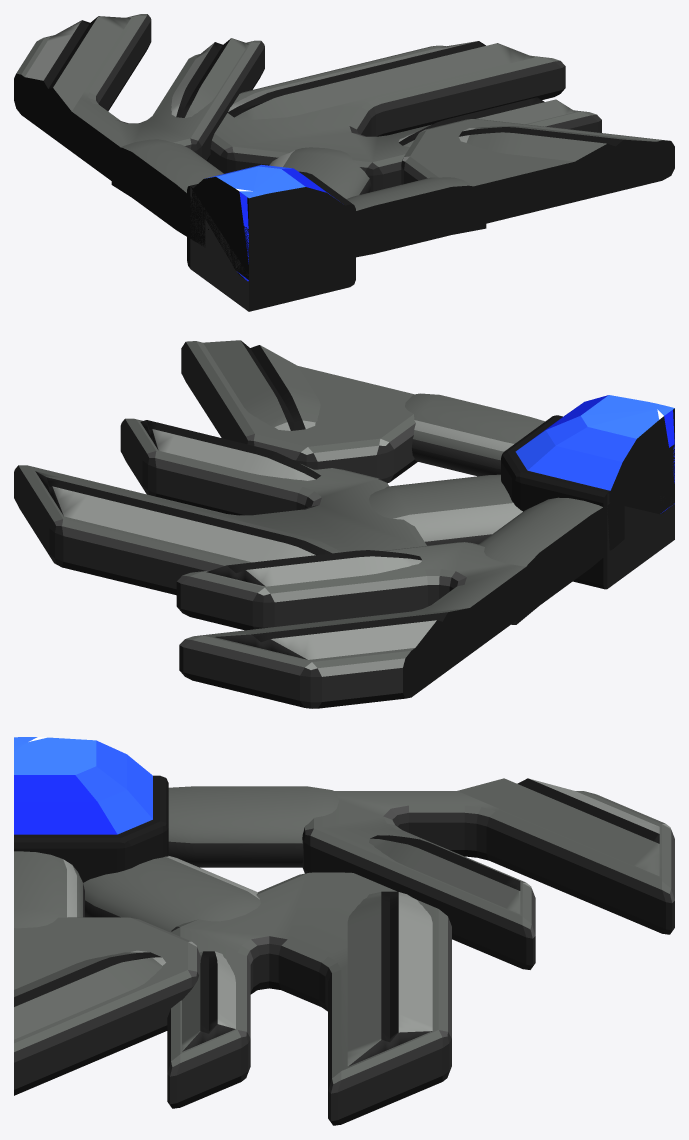
File: dark_saw_159.glb
The picture shows the model from 3 angles, top to bottom: view 1: azimuth 30°, elevation 25°; view 2: azimuth 150°, elevation 25°; view 3: azimuth 270°, elevation 25°; orthographic projection. The views are drawn at different scales.
Parts seen in each view (by area): view 1: dark_saw_159_under0_plate, dark_saw_159_arm1_plate, dark_saw_159_arm0_plate, dark_saw_159_gem_bezel, dark_saw_159_gem, dark_saw_159_under0_ridge0, dark_saw_159_arm1_rod, dark_saw_159_arm0_rod, dark_saw_159_arm0_ridge0, dark_saw_159_arm1_ridge0, dark_saw_159_arm0_ridge1, dark_saw_159_under0_rod (+1 smaller); view 2: dark_saw_159_arm0_plate, dark_saw_159_under0_plate, dark_saw_159_arm1_plate, dark_saw_159_gem, dark_saw_159_under0_ridge0, dark_saw_159_arm0_rod, dark_saw_159_gem_bezel, dark_saw_159_arm1_rod, dark_saw_159_under0_rod, dark_saw_159_arm0_ridge0, dark_saw_159_arm1_ridge0, dark_saw_159_arm0_ridge1 (+1 smaller); view 3: dark_saw_159_under0_plate, dark_saw_159_arm0_plate, dark_saw_159_arm1_plate, dark_saw_159_under0_ridge0, dark_saw_159_gem, dark_saw_159_arm0_rod, dark_saw_159_under0_rod, dark_saw_159_arm0_ridge0, dark_saw_159_arm1_ridge0, dark_saw_159_gem_bezel, dark_saw_159_arm1_rod, dark_saw_159_arm0_ridge1 (+1 smaller).
Boxes of the visible parts, x1,y1,x2,y2 form: dark_saw_159_under0_plate: (207,45,601,192); dark_saw_159_arm1_plate: (401,119,674,230); dark_saw_159_arm0_plate: (14,14,264,193); dark_saw_159_gem_bezel: (187,171,355,311); dark_saw_159_gem: (192,164,347,281); dark_saw_159_under0_ridge0: (227,41,534,119); dark_saw_159_arm1_rod: (324,177,486,262); dark_saw_159_arm0_rod: (111,139,223,247); dark_saw_159_arm0_ridge0: (20,16,130,121); dark_saw_159_arm1_ridge0: (459,126,664,170); dark_saw_159_arm0_ridge1: (171,38,248,117); dark_saw_159_under0_rod: (269,147,371,198); dark_saw_159_arm0_plate: (176,542,540,708); dark_saw_159_under0_plate: (14,418,426,595); dark_saw_159_arm1_plate: (181,341,417,483); dark_saw_159_gem: (515,395,674,514); dark_saw_159_under0_ridge0: (35,471,341,562); dark_saw_159_arm0_rod: (478,495,624,624); dark_saw_159_gem_bezel: (501,415,674,589); dark_saw_159_arm1_rod: (405,393,544,476); dark_saw_159_under0_rod: (369,474,522,545); dark_saw_159_arm0_ridge0: (215,607,474,659); dark_saw_159_arm1_ridge0: (203,340,320,430); dark_saw_159_arm0_ridge1: (206,550,422,586); dark_saw_159_under0_plate: (167,872,451,1125); dark_saw_159_arm0_plate: (302,791,674,969); dark_saw_159_arm1_plate: (14,917,200,1095); dark_saw_159_under0_ridge0: (347,891,432,1066); dark_saw_159_gem: (14,737,152,834); dark_saw_159_arm0_rod: (168,786,338,867); dark_saw_159_under0_rod: (83,856,260,932); dark_saw_159_arm0_ridge0: (457,778,659,876); dark_saw_159_arm1_ridge0: (14,950,165,1039); dark_saw_159_gem_bezel: (14,775,168,882); dark_saw_159_arm1_rod: (14,851,84,928); dark_saw_159_arm0_ridge1: (369,835,520,914).
Bounding box in the file's own units: 22.97 × 5.66 × 23.7.
